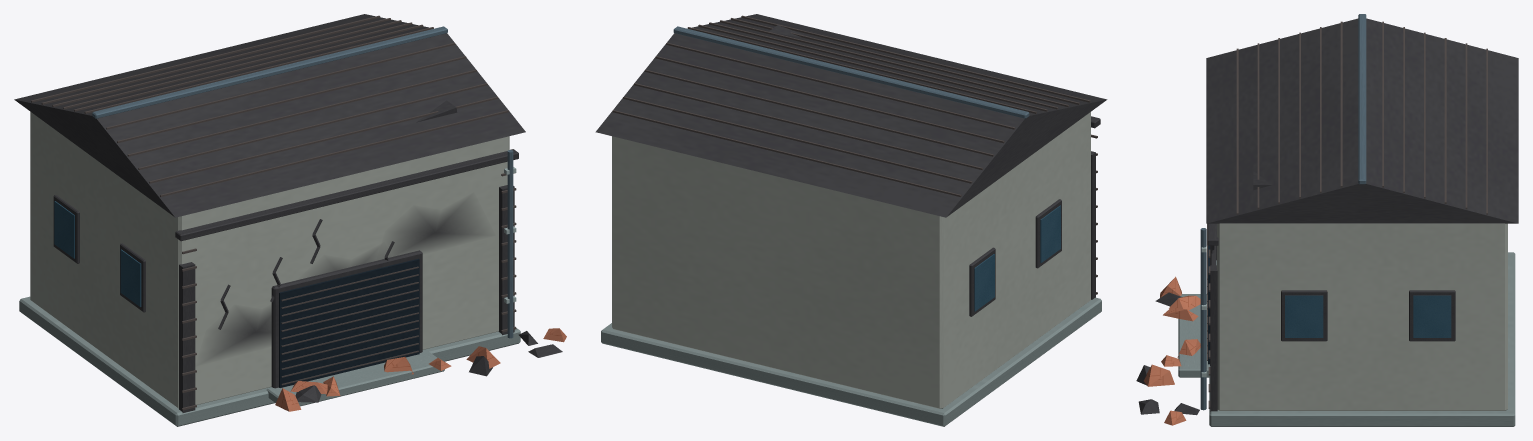
The model's file is warehouse-burning.glb.
3 views of the same model, side by side, from view 1: azimuth 30°, elevation 25°; view 2: azimuth 150°, elevation 25°; view 3: azimuth 270°, elevation 25° (orthographic). The views are drawn at different scales.
Parts seen in each view (by area): view 1: warehouse-burning; view 2: warehouse-burning; view 3: warehouse-burning.
Boxes of the visible parts, box(x1,y1,x2,y2) form: warehouse-burning: box(14, 14, 566, 426); warehouse-burning: box(595, 14, 1107, 426); warehouse-burning: box(1136, 14, 1518, 426).
Bounding box in the file's own units: 7.91 × 5.2 × 7.22.
3 materials, 3 textured.
